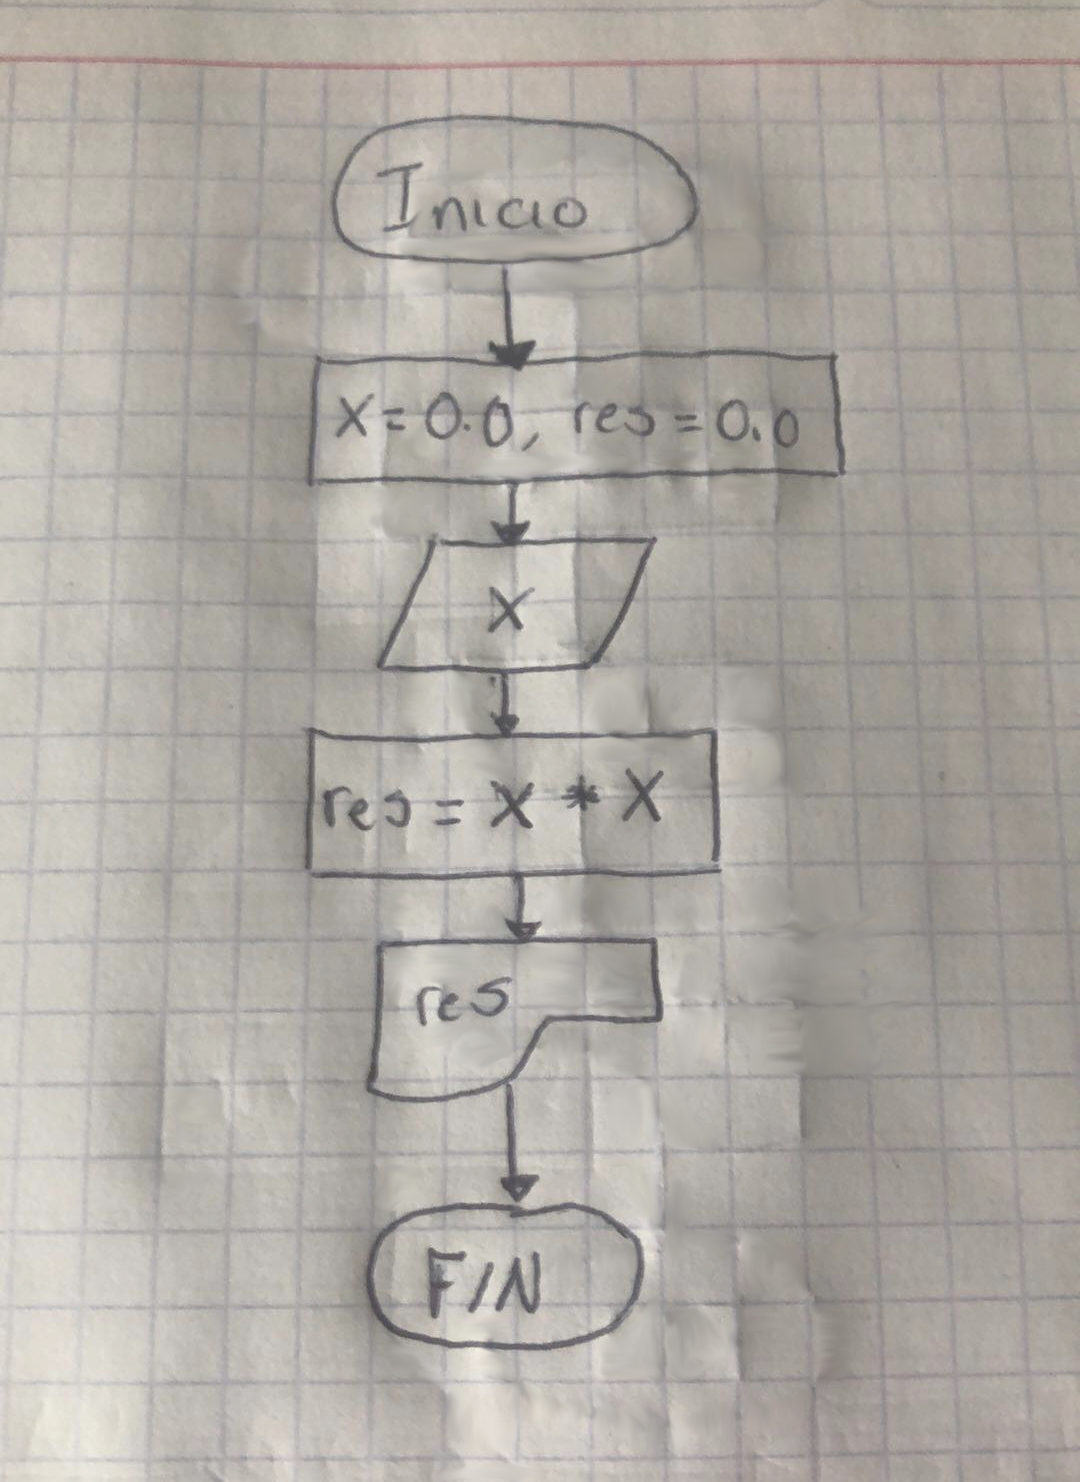arrow_line_down: (485, 1077, 541, 1215), (480, 261, 536, 366), (480, 478, 538, 548), (478, 666, 524, 735), (496, 868, 541, 937)
print: (358, 929, 667, 1108)
process: (294, 346, 856, 495), (292, 719, 732, 888)
scan: (374, 532, 658, 679)
start_end: (320, 104, 705, 270), (357, 1197, 652, 1357)
